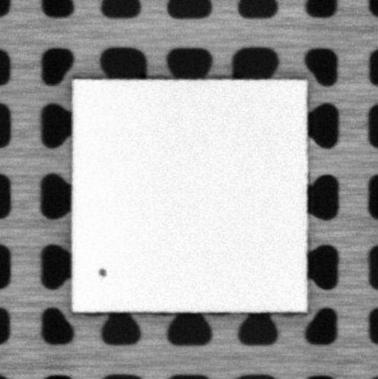DIE_INK: (97, 266, 109, 279)
